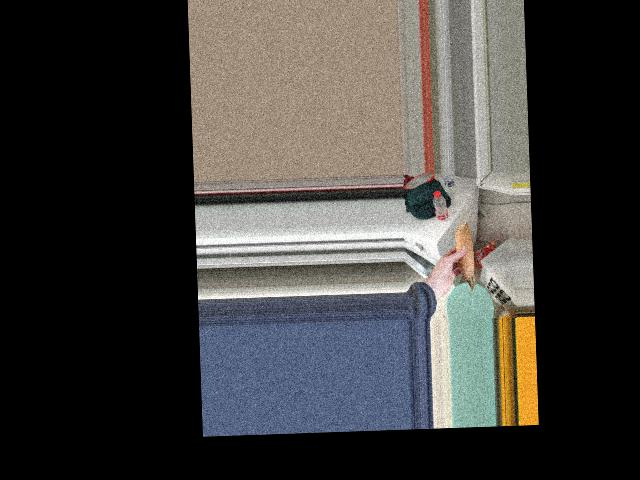sweet_potato: (450, 228, 475, 290)
